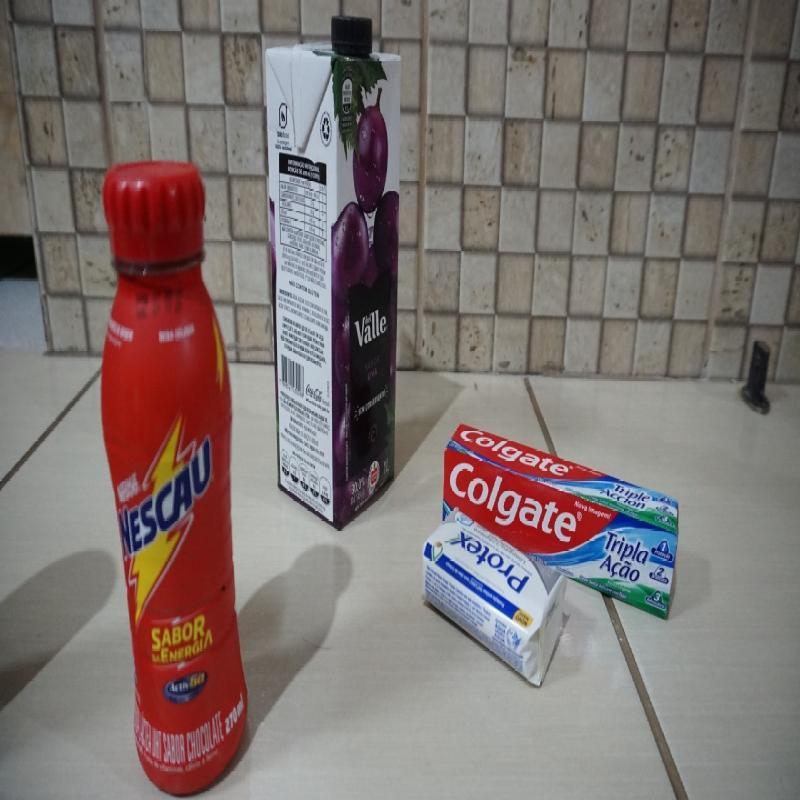Chocolate Milk: (89, 164, 254, 800), (99, 158, 251, 796)
Soap: (422, 506, 568, 688), (423, 516, 565, 691)
Toothpaste: (443, 421, 680, 621), (446, 420, 677, 609)
